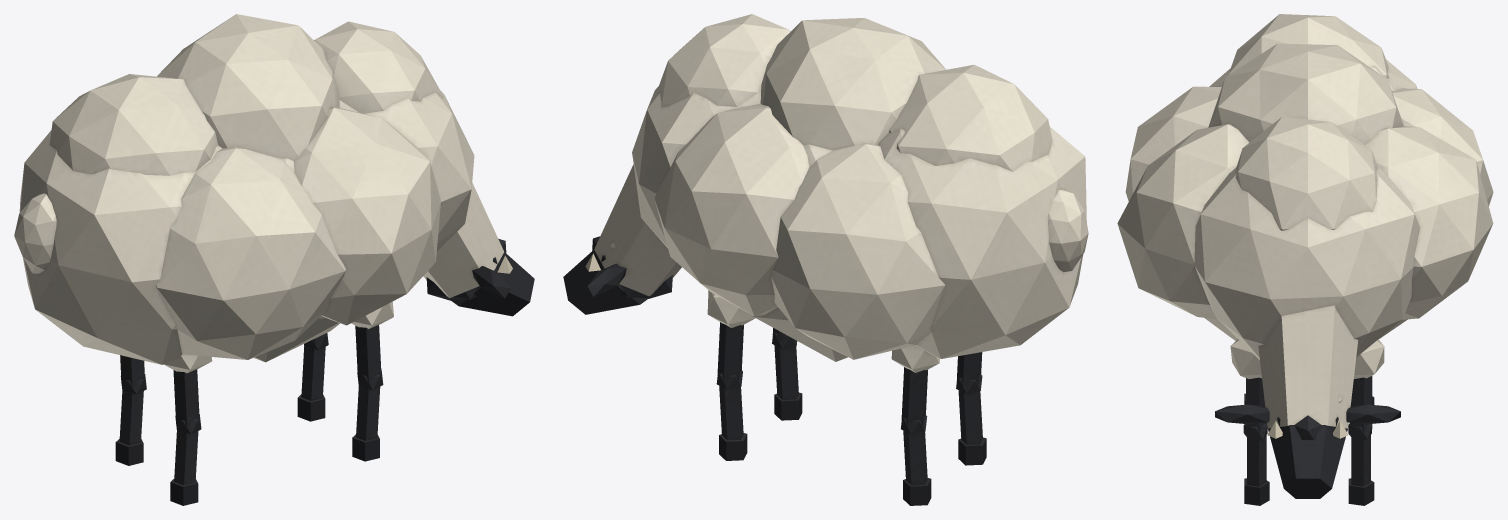
Rendered from far_2_tex.glb.
The picture shows the model from 3 angles, left to right: view 1: azimuth 30°, elevation 25°; view 2: azimuth 150°, elevation 25°; view 3: azimuth 270°, elevation 25°; orthographic projection. The views are drawn at different scales.
Parts seen in each view (by area): view 1: far_2; view 2: far_2; view 3: far_2.
Part boxes in pixels (<box>): far_2: <box>14,14,534,505</box>; far_2: <box>563,14,1088,505</box>; far_2: <box>1117,14,1493,505</box>.
Size of the model in its own units: 1.4 by 1.12 by 0.9364.
4 materials, 3 textured.
